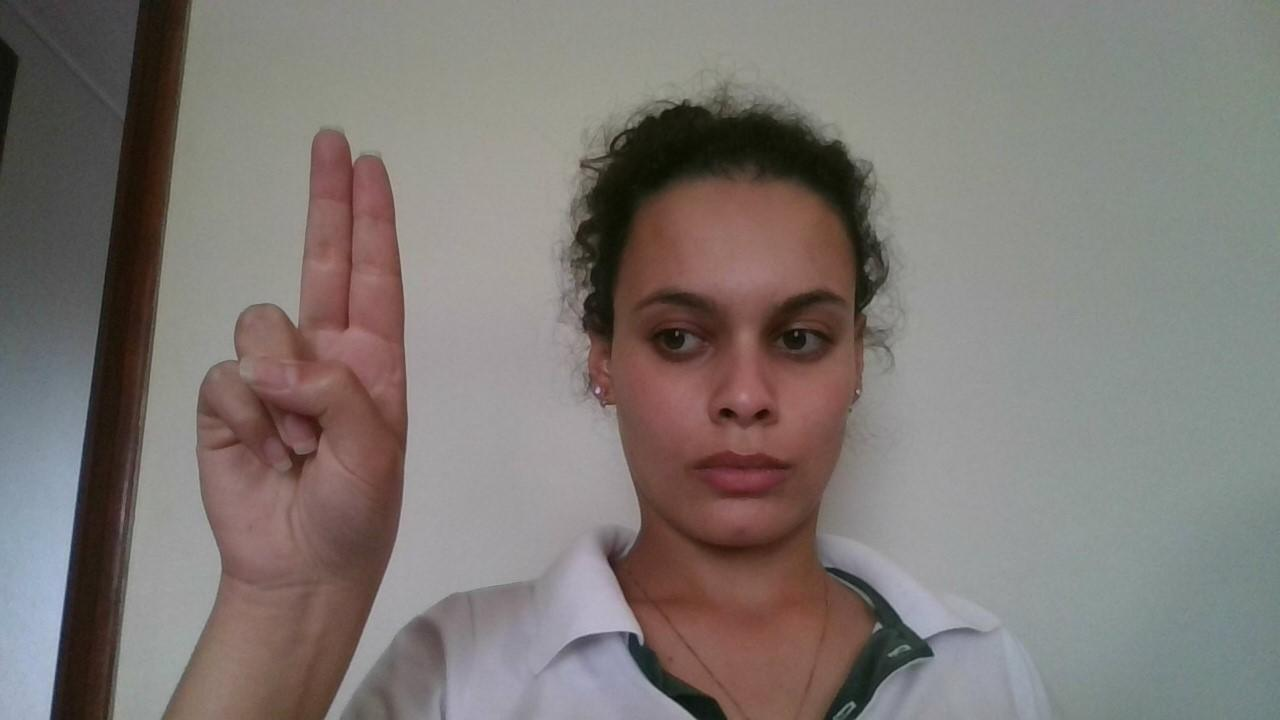U: (194, 126, 410, 584)
